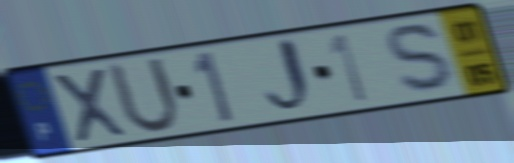1: (190, 48, 238, 127), (327, 31, 372, 106)
J: (262, 34, 320, 121)
S: (383, 21, 463, 97)
U: (102, 55, 183, 138)
X: (48, 64, 134, 146)
